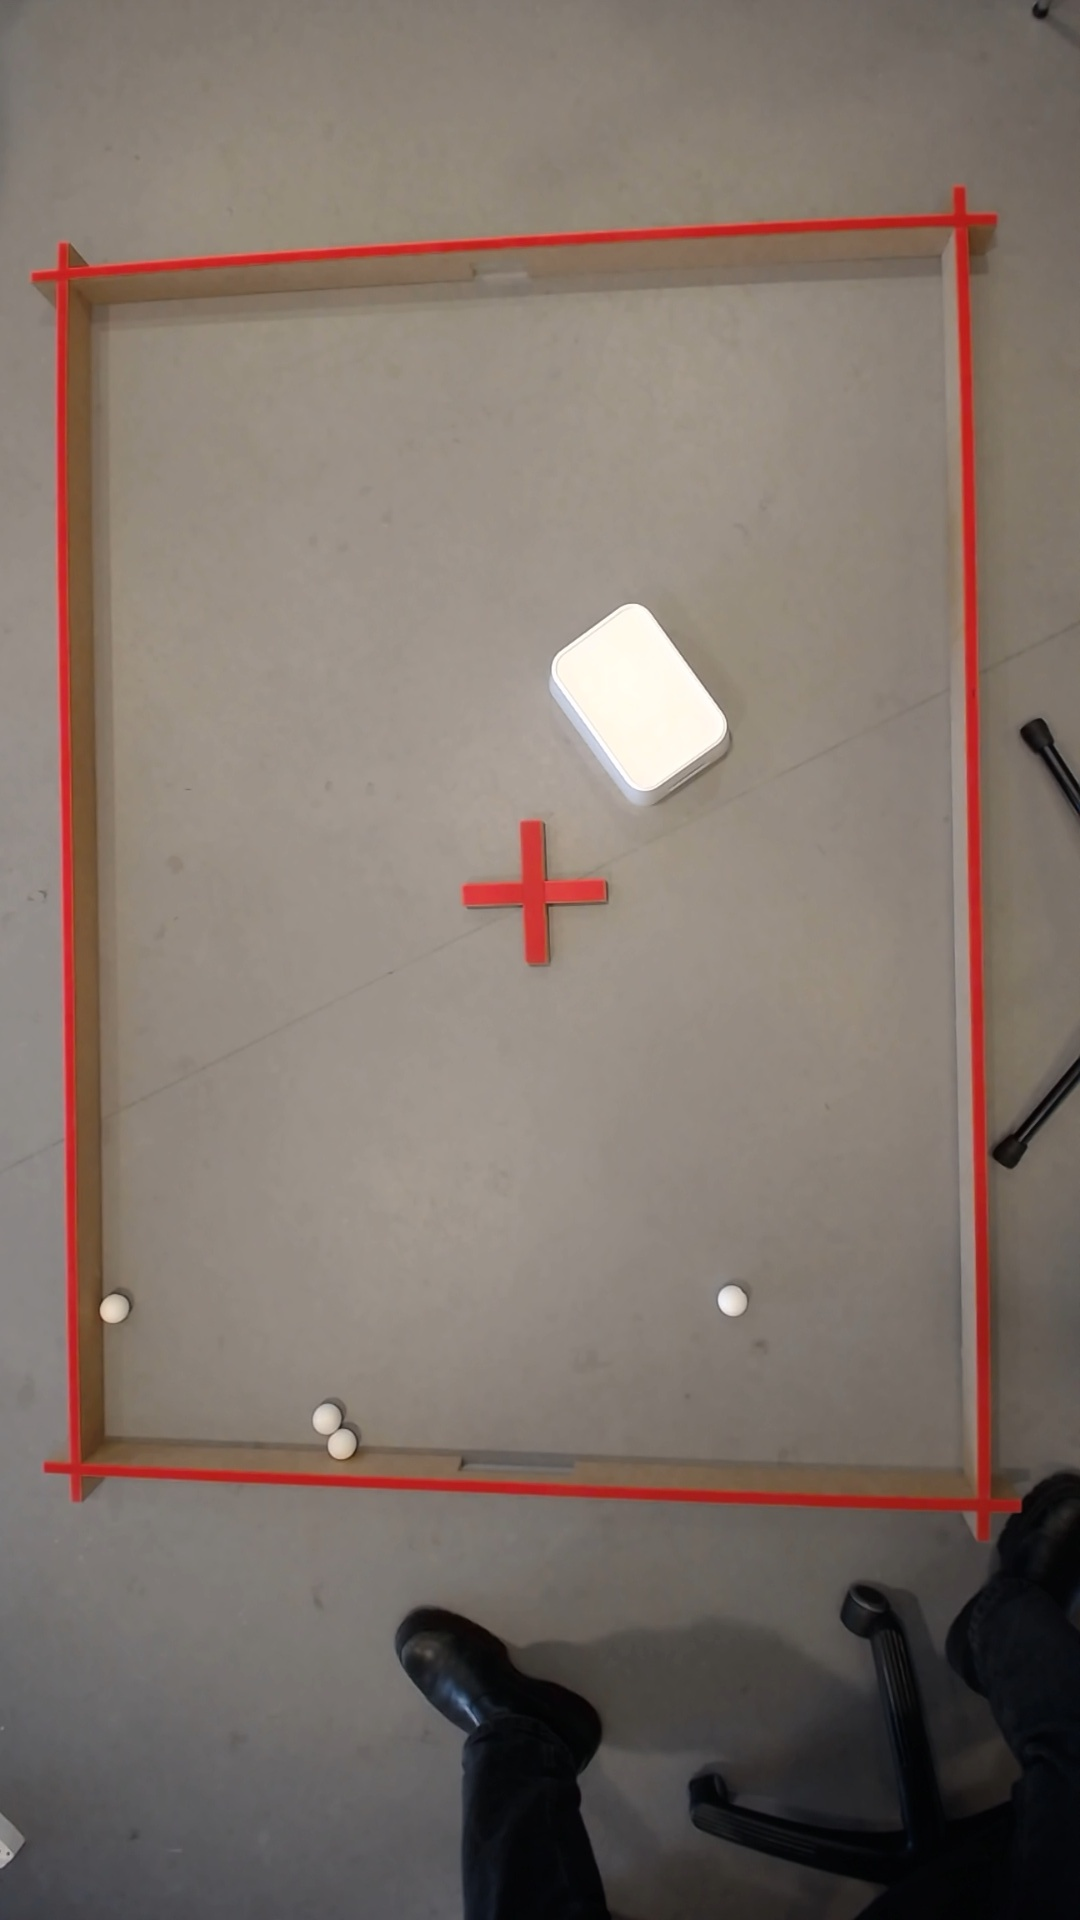balls: (533, 592, 736, 804), (711, 1283, 748, 1319), (307, 1403, 338, 1435), (100, 1298, 121, 1321)
car: (327, 1432, 348, 1455)
